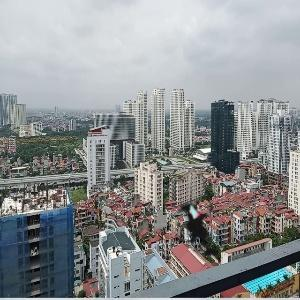drone: (157, 181, 254, 278)
